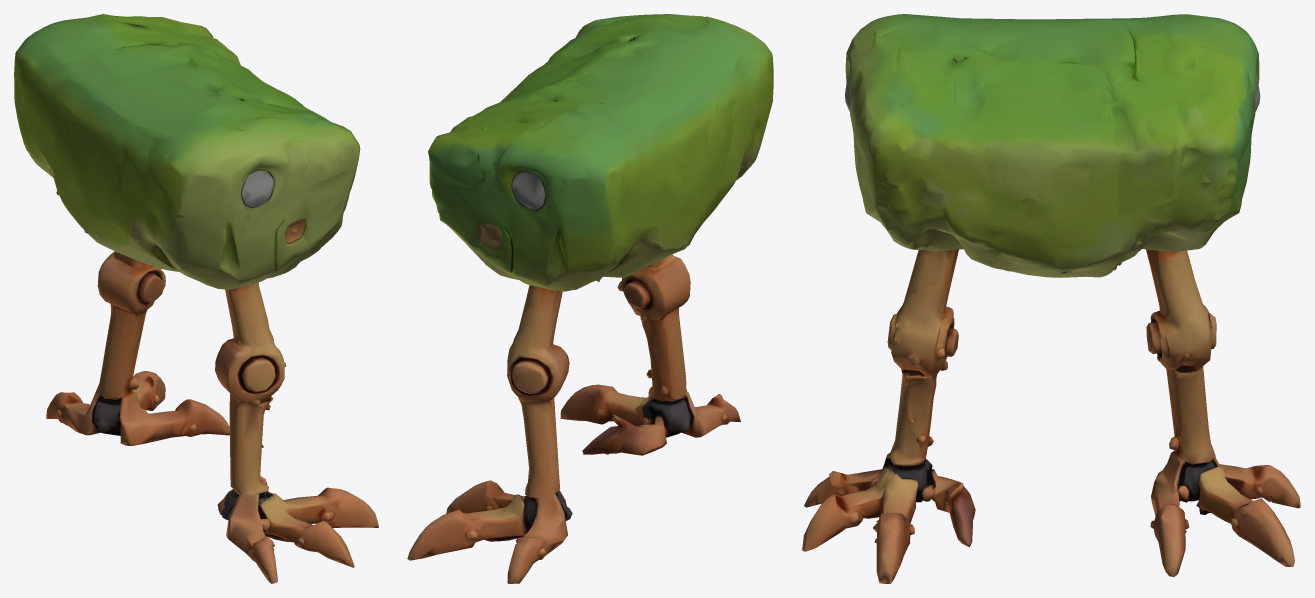
The model's file is legs.glb.
The picture shows the model from 3 angles, left to right: view 1: azimuth 30°, elevation 25°; view 2: azimuth 150°, elevation 25°; view 3: azimuth 270°, elevation 25°; orthographic projection. The views are drawn at different scales.
Parts seen in each view (by area): view 1: tripo_node_77afda41-12dc-472a-82be-cc0a8fe90932; view 2: tripo_node_77afda41-12dc-472a-82be-cc0a8fe90932; view 3: tripo_node_77afda41-12dc-472a-82be-cc0a8fe90932.
Part boxes in pixels (x1,y1,x2,y2): tripo_node_77afda41-12dc-472a-82be-cc0a8fe90932: (14,14,378,583); tripo_node_77afda41-12dc-472a-82be-cc0a8fe90932: (407,14,773,583); tripo_node_77afda41-12dc-472a-82be-cc0a8fe90932: (802,14,1300,583).
Size of the model in its own units: 0.5158 by 1 by 0.945.
Materials: 1 (1 with a texture image).
